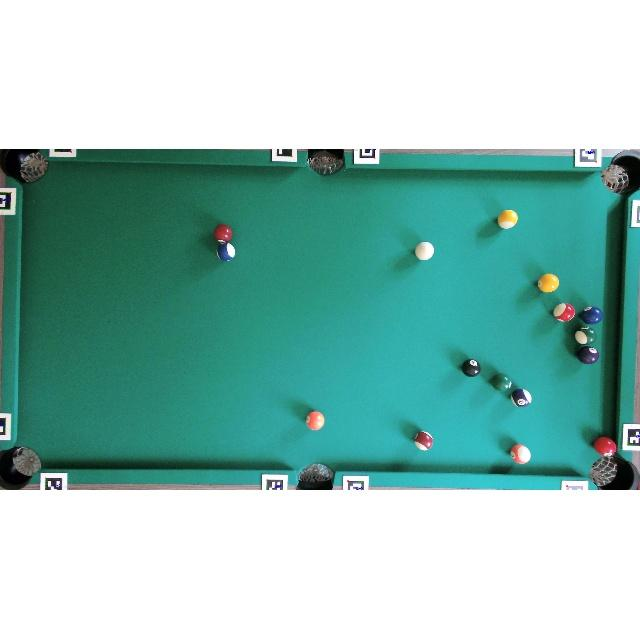cue ball: (415, 241, 435, 261)
other: (593, 436, 617, 458), (509, 442, 532, 464), (553, 302, 576, 323), (574, 326, 598, 346), (580, 305, 604, 325), (576, 345, 600, 365), (537, 273, 560, 293), (497, 209, 519, 229), (510, 388, 532, 408), (216, 241, 236, 262), (491, 372, 512, 392), (414, 431, 434, 452), (306, 410, 326, 431), (214, 224, 233, 244), (461, 359, 481, 377)
